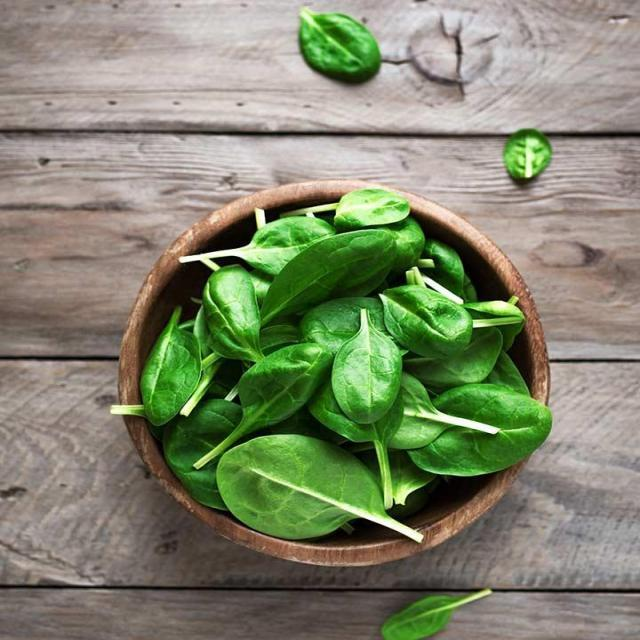Spinach: (109, 180, 568, 549)
